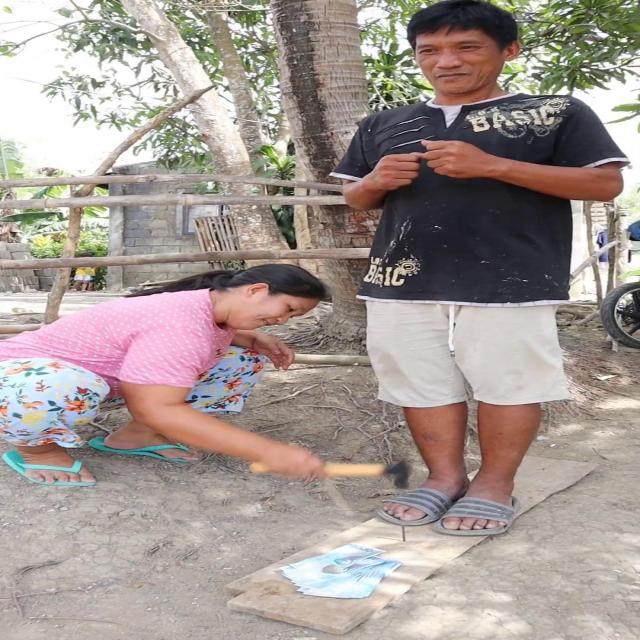hammer: (248, 456, 412, 489)
